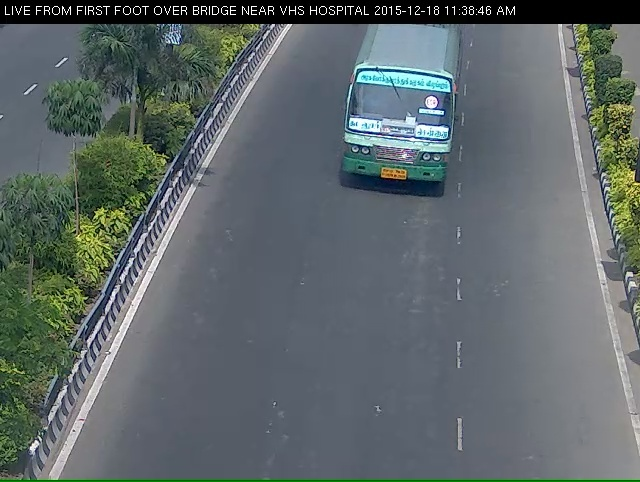Bus: (344, 25, 469, 223)
